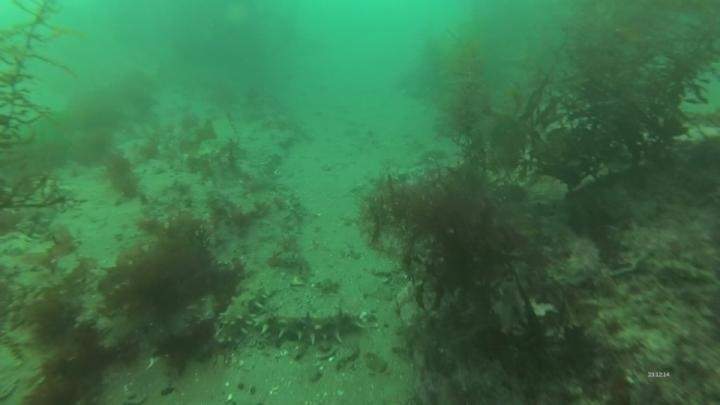holothurian: (248, 301, 370, 349), (212, 273, 281, 347)
